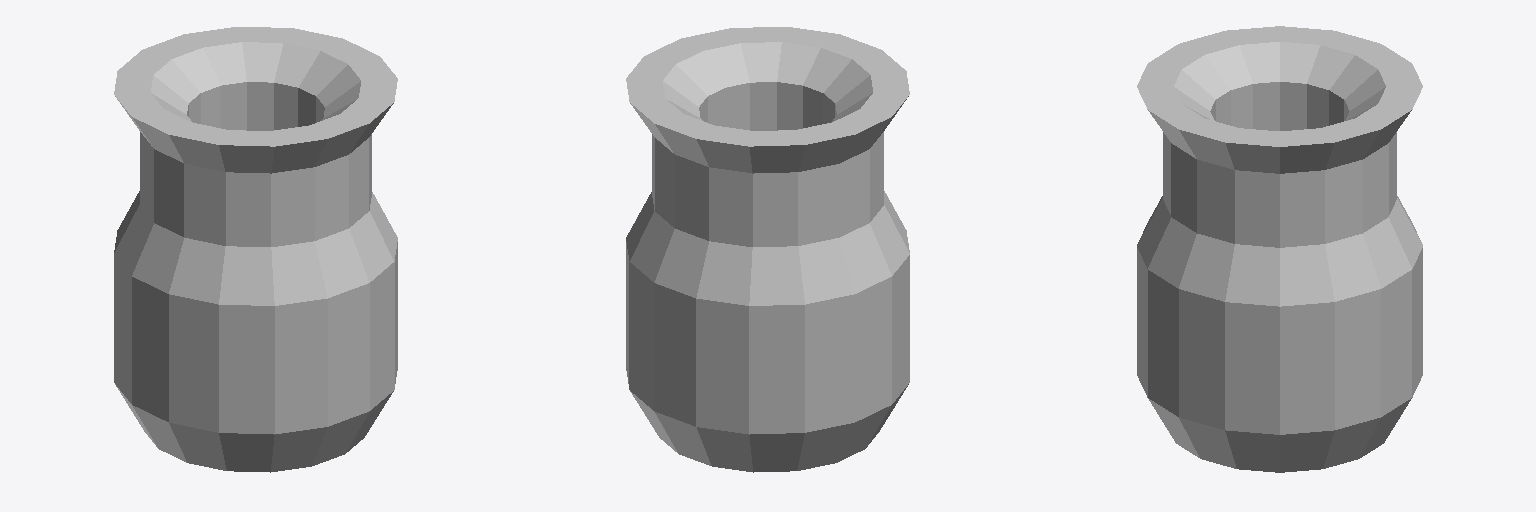
Rendered from Artifact1.obj.
The picture shows the model from 3 angles: view 1: azimuth 30°, elevation 25°; view 2: azimuth 150°, elevation 25°; view 3: azimuth 270°, elevation 25°; orthographic projection.
Parts seen in each view (by area): view 1: Artifact_Cylinder.001; view 2: Artifact_Cylinder.001; view 3: Artifact_Cylinder.001.
Part boxes in pixels (x1,y1,x2,y2): Artifact_Cylinder.001: (114, 27, 397, 472); Artifact_Cylinder.001: (626, 27, 909, 472); Artifact_Cylinder.001: (1137, 26, 1422, 472).
Bounding box in the file's own units: 1.28 × 1.66 × 1.28.